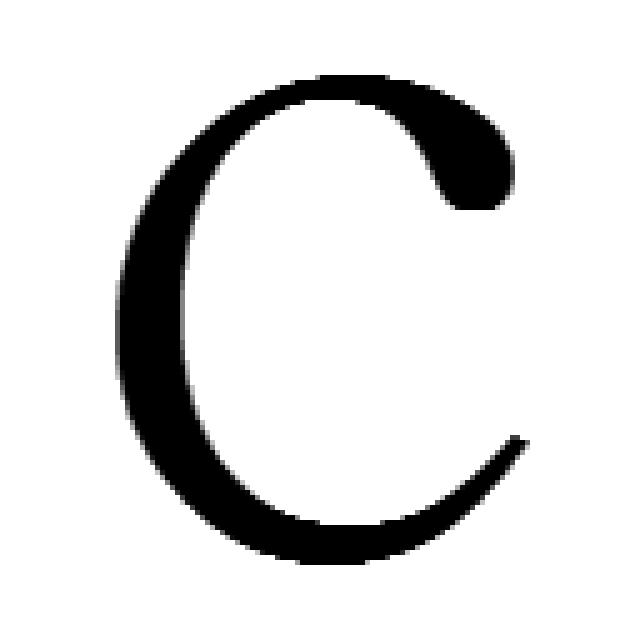C: (115, 75, 535, 570)
